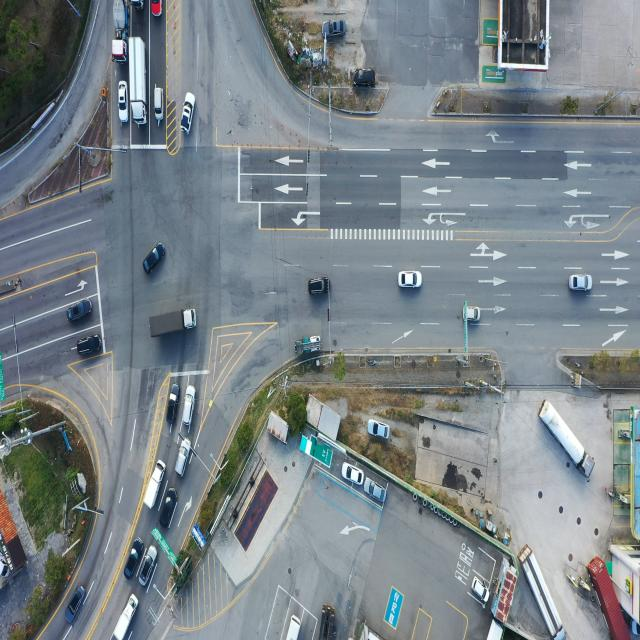car: (65, 584, 86, 624), (139, 545, 158, 587), (143, 243, 165, 276), (160, 491, 177, 530), (175, 438, 191, 478), (165, 385, 178, 432), (126, 544, 142, 580), (182, 384, 195, 426), (472, 578, 491, 606), (68, 299, 93, 320), (364, 480, 385, 504), (77, 336, 102, 356), (182, 92, 194, 133), (343, 463, 364, 486), (323, 20, 346, 39), (367, 420, 388, 440), (118, 81, 128, 123), (353, 68, 375, 87), (398, 271, 420, 289), (569, 274, 591, 292), (309, 278, 330, 296), (154, 87, 164, 121), (463, 307, 481, 322), (150, 0, 161, 16)
medium_truck: (538, 397, 592, 479), (524, 549, 566, 640), (130, 36, 151, 125), (149, 311, 195, 340), (115, 0, 130, 59), (320, 606, 338, 640), (131, 0, 144, 11)
small_bus: (283, 615, 301, 640)
small_truck: (114, 592, 141, 640), (144, 460, 166, 511), (298, 337, 322, 350)
